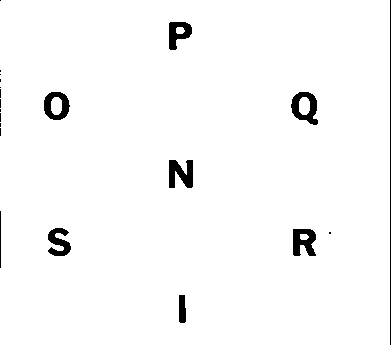I: (172, 290, 195, 332)
